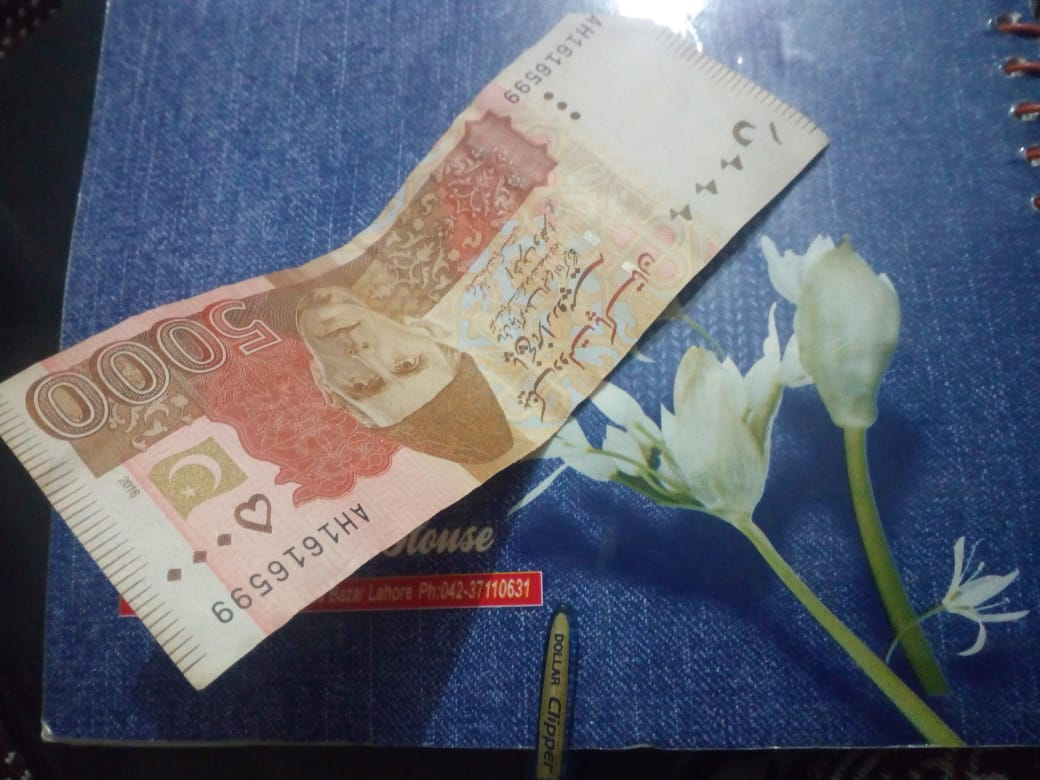5000 rupee: (6, 22, 849, 687)
